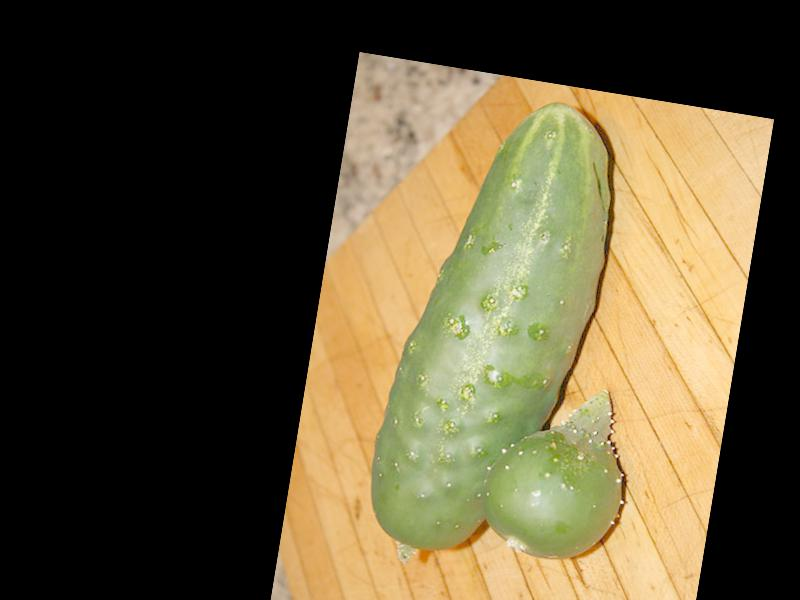Cucumber: (359, 81, 629, 571)
